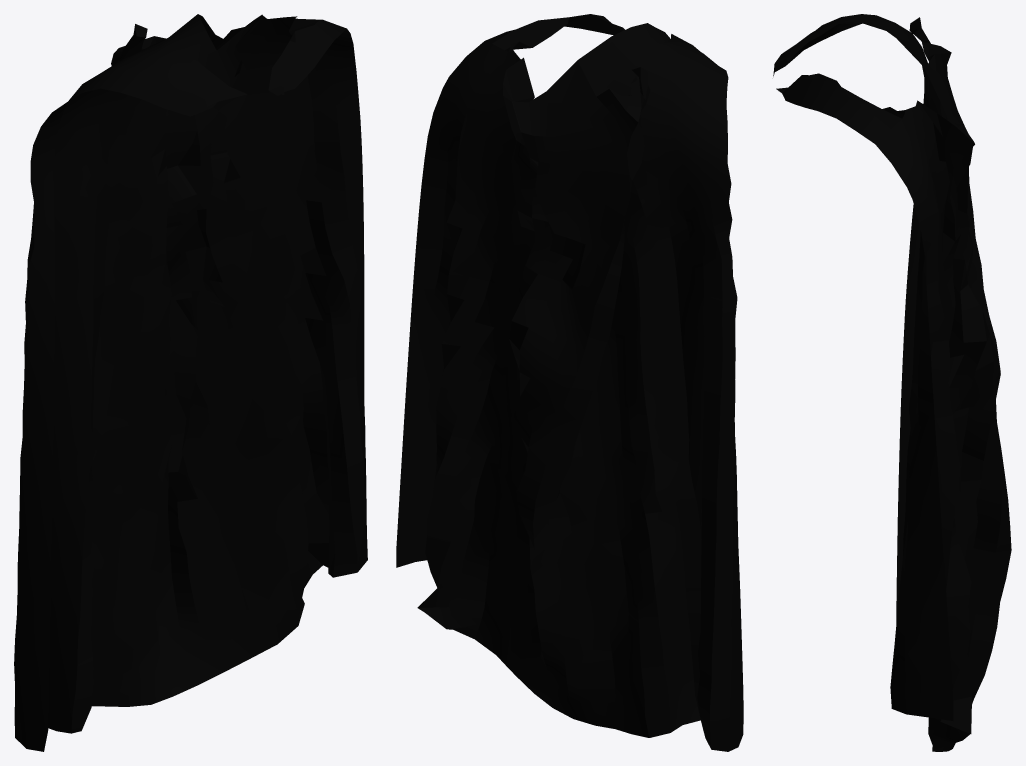
The model's file is clo_cts_roha_cape1.fbx.
3 renders of one model, left to right at view 1: azimuth 30°, elevation 25°; view 2: azimuth 150°, elevation 25°; view 3: azimuth 270°, elevation 25°, orthographic. The views are drawn at different scales.
Parts seen in each view (by area): view 1: clo_cts_roha_cape1; view 2: clo_cts_roha_cape1; view 3: clo_cts_roha_cape1.
Part boxes in pixels (x1,y1,x2,y2): clo_cts_roha_cape1: (14, 14, 367, 751); clo_cts_roha_cape1: (396, 14, 743, 751); clo_cts_roha_cape1: (773, 14, 1011, 751).
Size of the model in its own units: 0.6852 by 0.4004 by 1.32.
